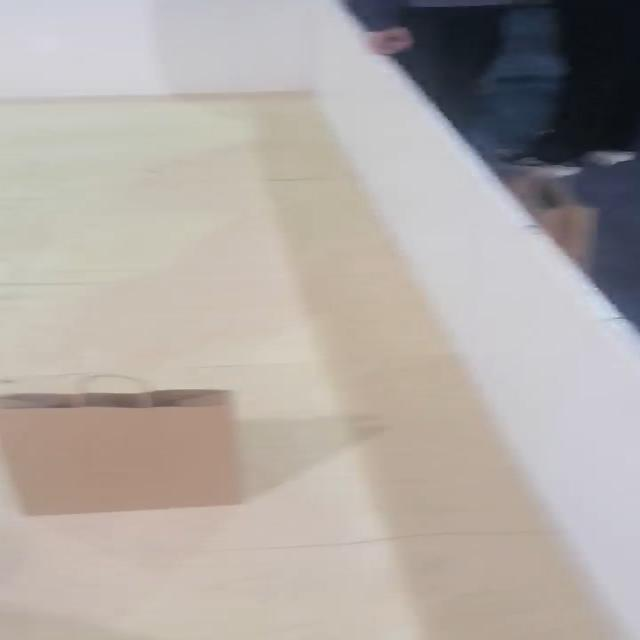Paper_Bag: (0, 373, 243, 518)
